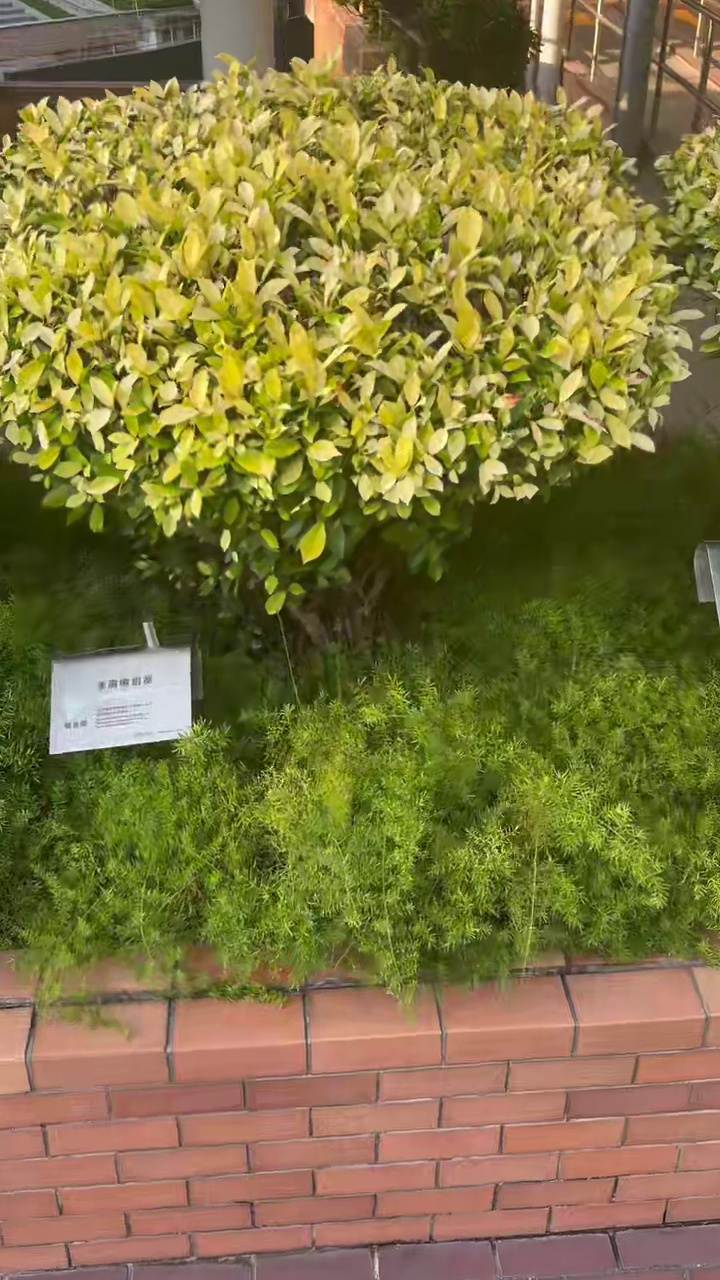Golden-leaves Fig: (0, 62, 690, 613)
